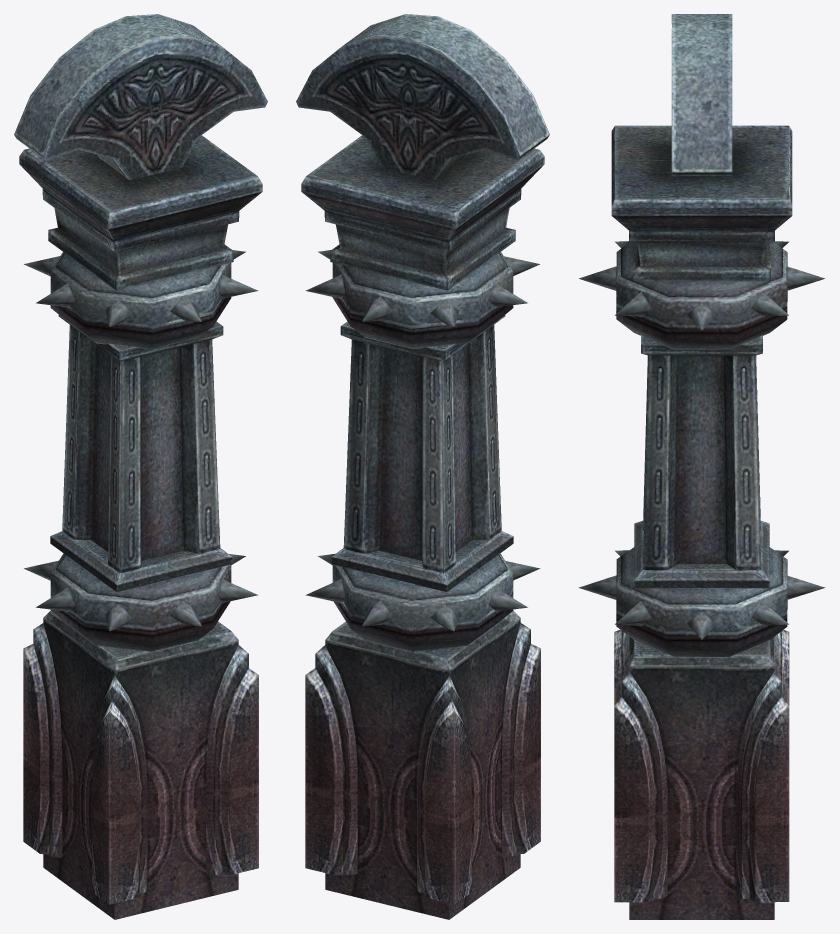
The model's file is steel_bridge_pillar.glb.
3 renders of one model, left to right at view 1: azimuth 30°, elevation 25°; view 2: azimuth 150°, elevation 25°; view 3: azimuth 270°, elevation 25°, orthographic.
Visible parts, largest first — view 1: steel_bridge_pillar; view 2: steel_bridge_pillar; view 3: steel_bridge_pillar.
Part boxes in pixels (x1,y1,x2,y2): steel_bridge_pillar: (14,14,267,919); steel_bridge_pillar: (296,14,549,919); steel_bridge_pillar: (578,14,825,919).
Size of the model in its own units: 1.64 by 5.94 by 1.54.
Materials: 1 (1 with a texture image).
